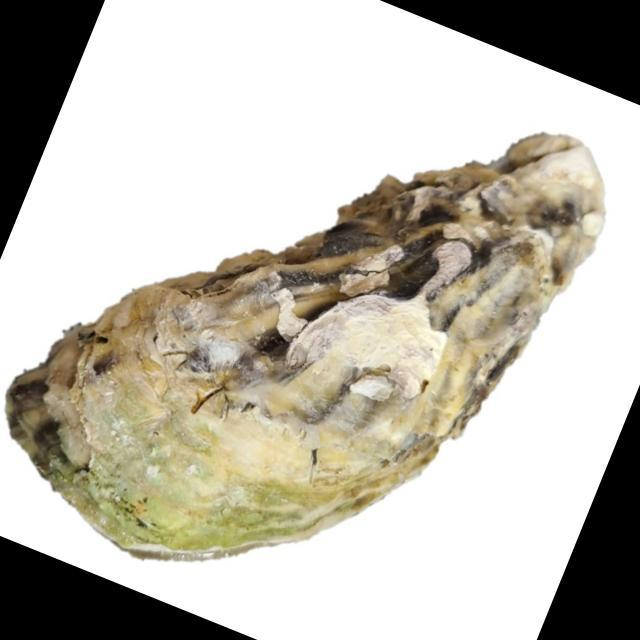Oyster- Indeterminate: (5, 132, 608, 564)
